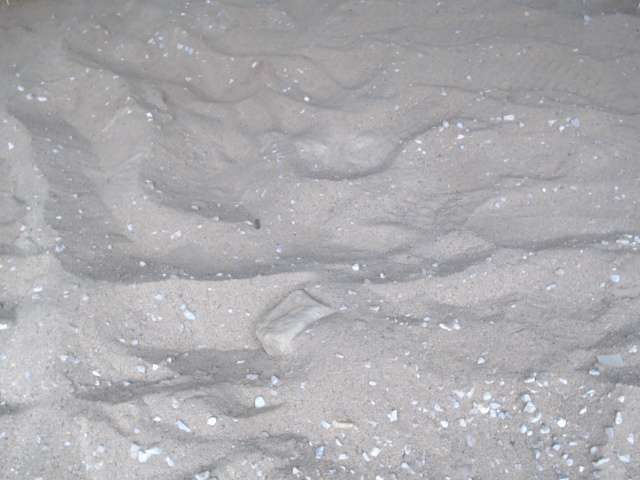rock: (251, 279, 355, 368)
